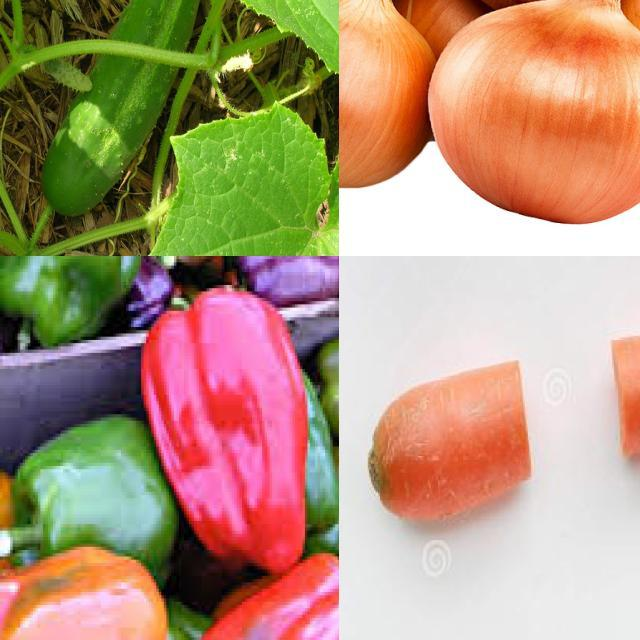bell_pepper: (1, 400, 180, 601), (1, 257, 148, 366)
carrot: (369, 356, 535, 530)
cucumber: (40, 1, 213, 224)
onion: (421, 1, 640, 220), (340, 1, 440, 191)
